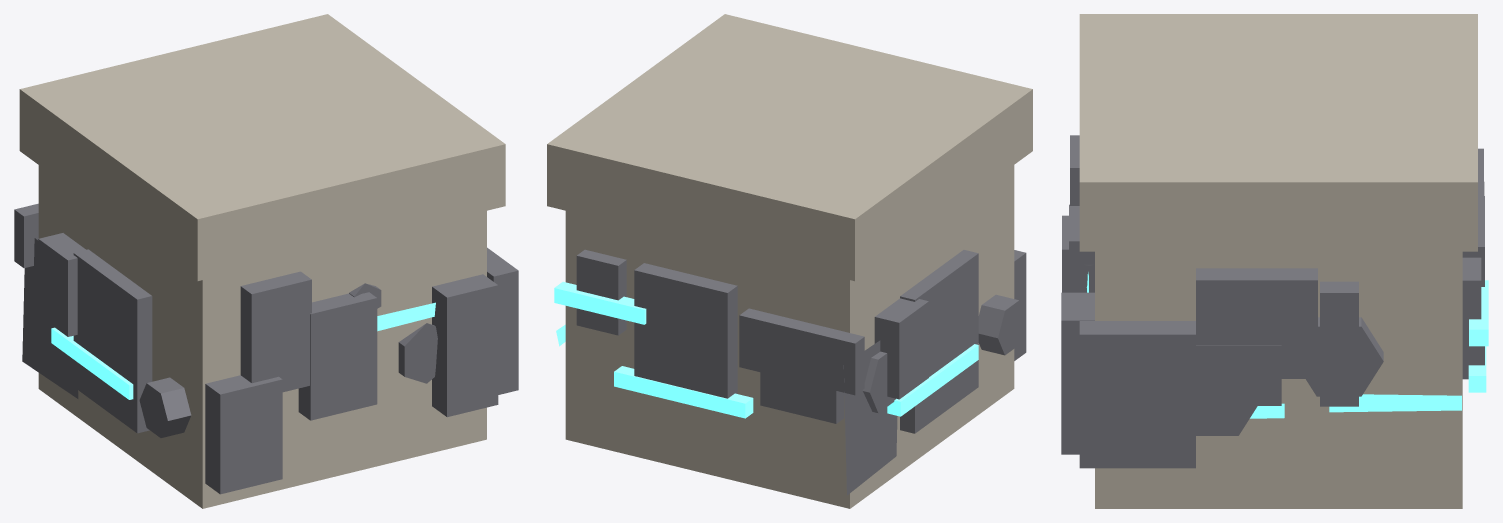
The model's file is alien_hut.glb.
3 views of the same model, side by side, from view 1: azimuth 30°, elevation 25°; view 2: azimuth 150°, elevation 25°; view 3: azimuth 270°, elevation 25° (orthographic). The views are drawn at different scales.
Parts seen in each view (by area): view 1: alien_hut; view 2: alien_hut; view 3: alien_hut.
Boxes of the visible parts, x1,y1,x2,y2 form: alien_hut: [14, 14, 518, 508]; alien_hut: [547, 14, 1032, 508]; alien_hut: [1061, 14, 1488, 508].
Size of the model in its own units: 2.82 by 2.4 by 2.79.
